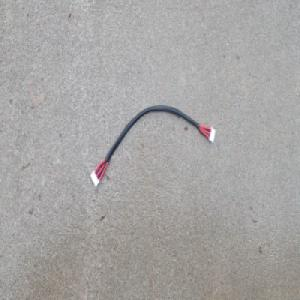Wire: (89, 102, 216, 189)
